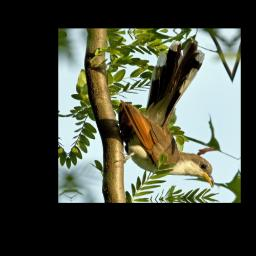Cuckoo: (110, 39, 215, 191)
